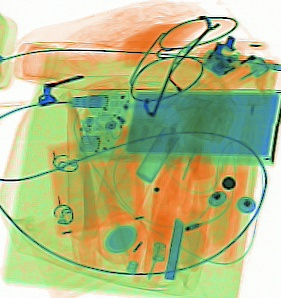lighter: (186, 52, 268, 109)
